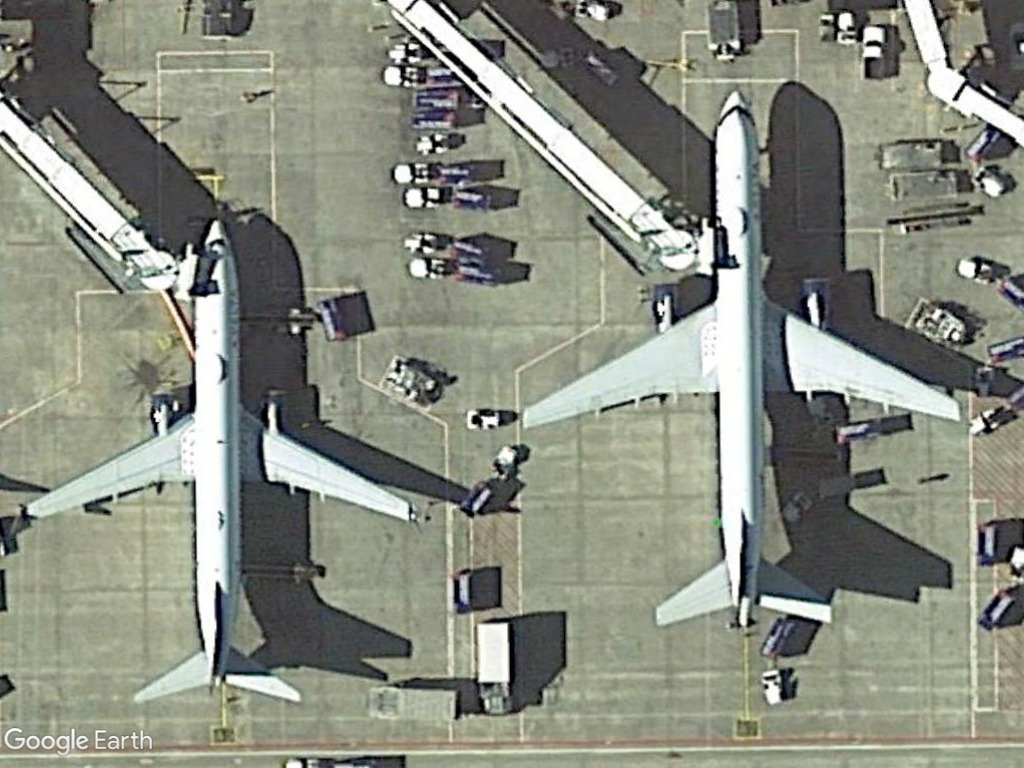airliner: (508, 86, 966, 643), (11, 213, 420, 708)
truck: (471, 615, 517, 716)
